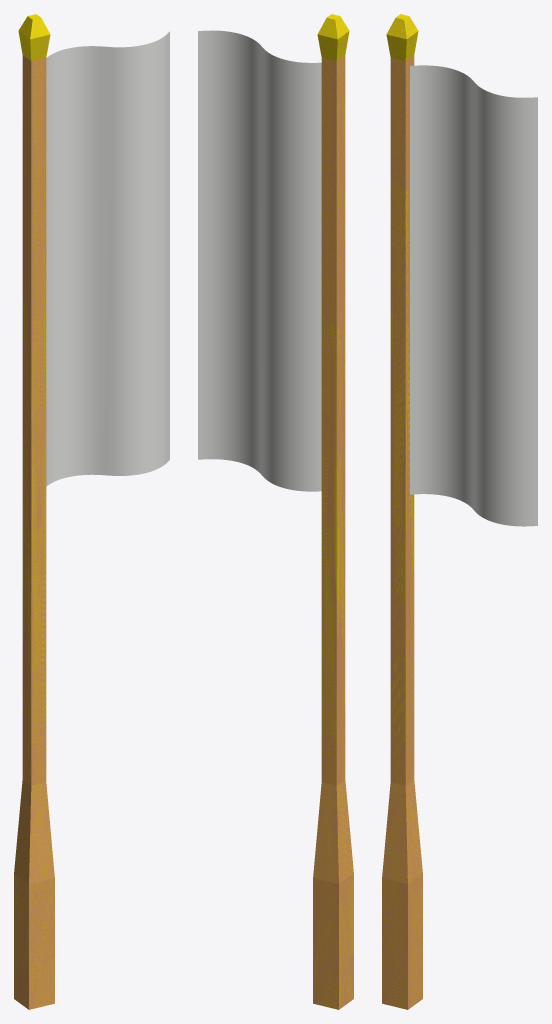
Rendered from flagCheckers.glb.
3 views of the same model, side by side, from view 1: azimuth 30°, elevation 25°; view 2: azimuth 150°, elevation 25°; view 3: azimuth 330°, elevation 25° (orthographic).
Parts seen in each view (by area): view 1: flagCheckers(Clone), Group; view 2: flagCheckers(Clone), Group; view 3: flagCheckers(Clone), Group.
Part boxes in pixels (bbox=[...]): flagCheckers(Clone): bbox=[46, 31, 169, 486]; Group: bbox=[14, 14, 54, 1009]; flagCheckers(Clone): bbox=[198, 30, 321, 491]; Group: bbox=[313, 14, 353, 1009]; flagCheckers(Clone): bbox=[410, 65, 537, 526]; Group: bbox=[382, 14, 422, 1009].
Size of the model in its own units: 0.1972 by 1.25 by 0.0352.
